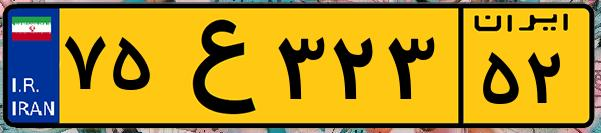2: (330, 28, 385, 110), (525, 38, 570, 115)
3: (270, 28, 330, 110), (385, 28, 445, 110)
5: (475, 38, 525, 113), (110, 28, 158, 98)
7: (57, 26, 110, 100)
ع: (158, 12, 270, 120)
